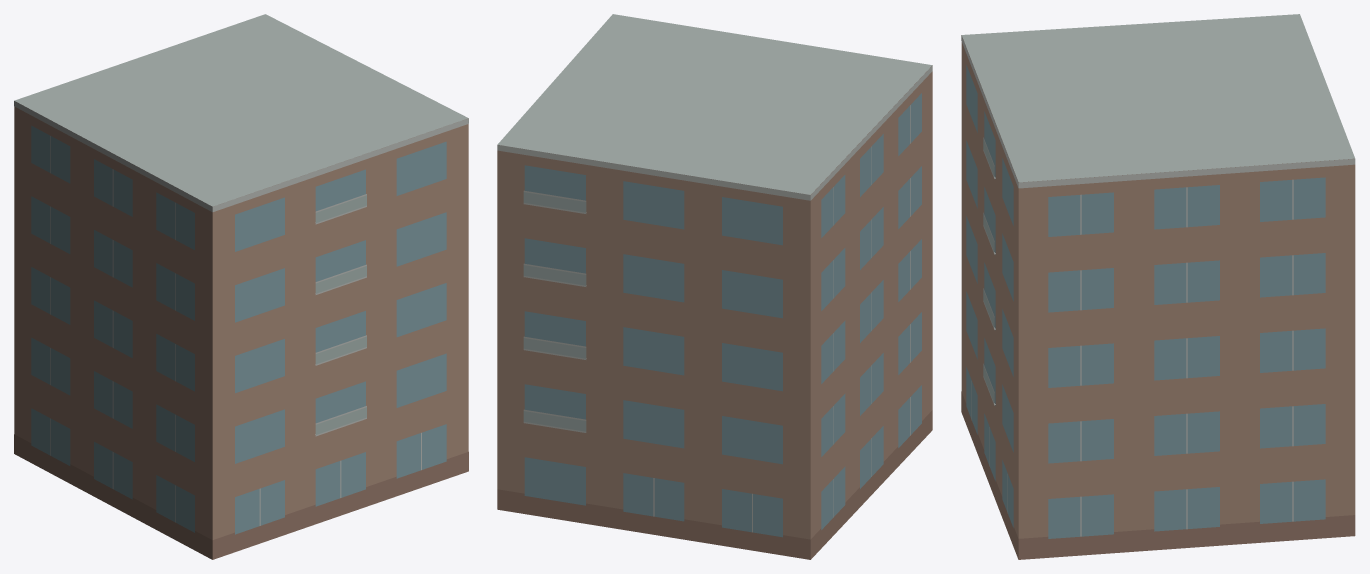
Rendered from survey-upis-32699009.glb.
3 views of the same model, side by side, from view 1: azimuth 30°, elevation 25°; view 2: azimuth 150°, elevation 25°; view 3: azimuth 270°, elevation 25° (orthographic). The views are drawn at different scales.
Visible parts, largest first — view 1: survey-upis-32699009.tmp; view 2: survey-upis-32699009.tmp; view 3: survey-upis-32699009.tmp.
Part boxes in pixels (x1=…): survey-upis-32699009.tmp: x1=14, y1=14, x2=468, y2=559; survey-upis-32699009.tmp: x1=497, y1=14, x2=932, y2=559; survey-upis-32699009.tmp: x1=961, y1=14, x2=1355, y2=559.
Bounding box in the file's own units: 14.61 × 15.25 × 14.43.
